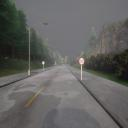speed_limit_90: (79, 58, 84, 64)
